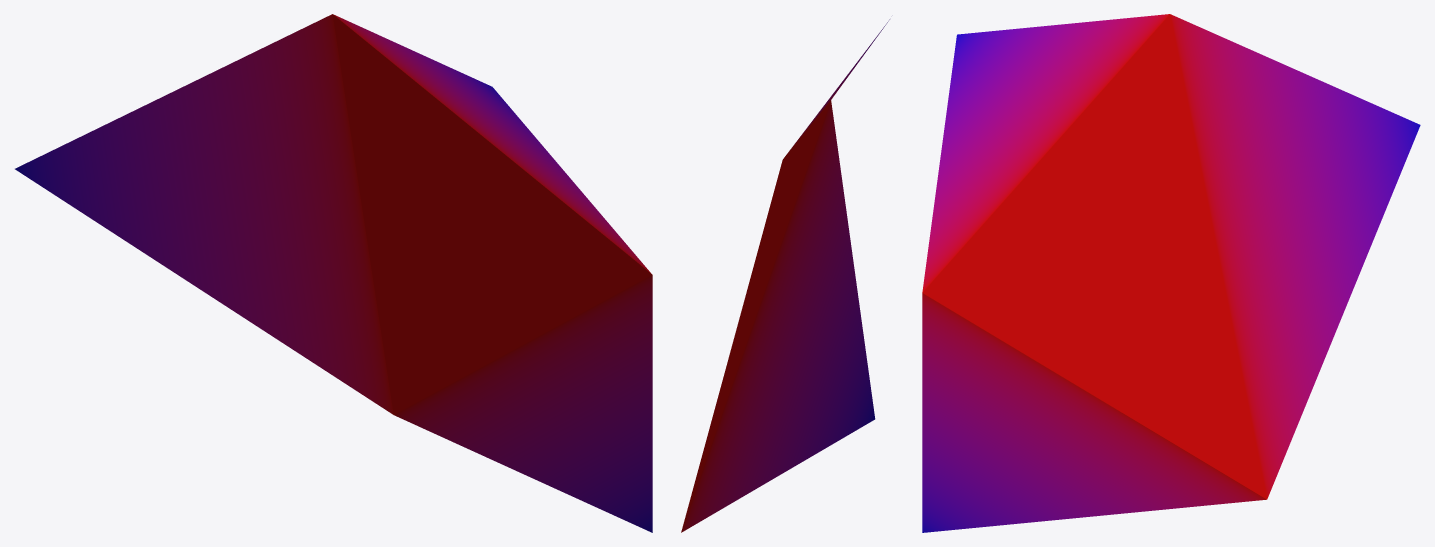
File: border_patch_12.obj
3 views of the same model, side by side, from view 1: azimuth 30°, elevation 25°; view 2: azimuth 150°, elevation 25°; view 3: azimuth 270°, elevation 25° (orthographic). The views are drawn at different scales.
Bounding box in the file's own units: 0.9272 × 1.12 × 1.16.
